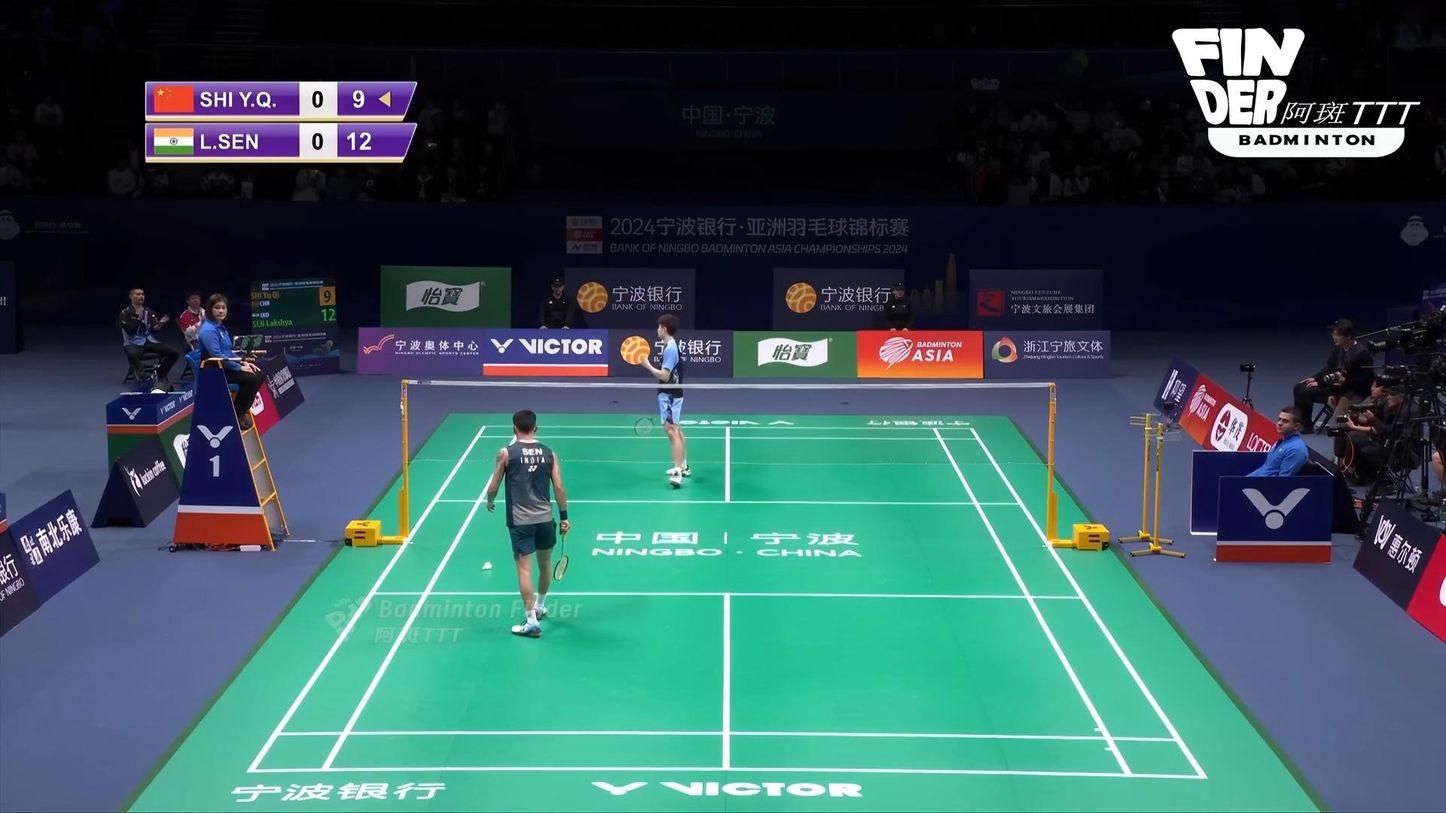shuttlecock: (481, 561, 493, 571)
